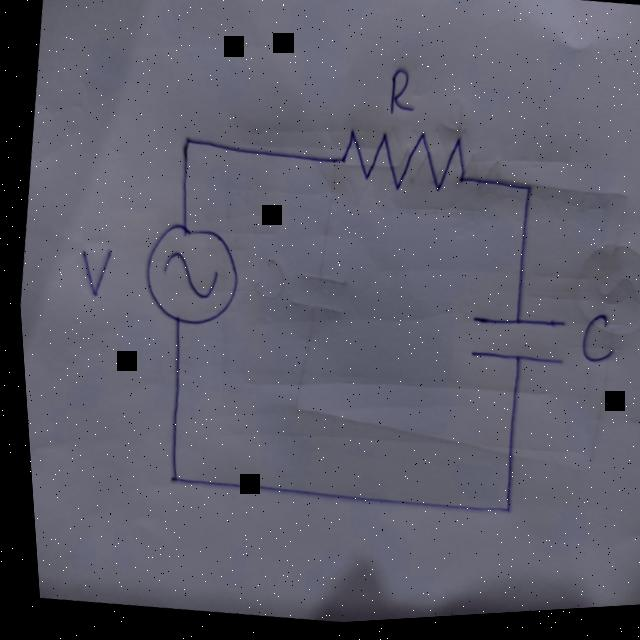capacitor: (456, 308, 566, 380)
junction: (155, 466, 177, 491), (174, 129, 194, 154), (489, 501, 508, 525), (512, 182, 533, 203)
resistor: (329, 115, 471, 209)
source: (129, 214, 247, 339)
text: (569, 313, 616, 376), (69, 244, 111, 301), (381, 69, 420, 122)
